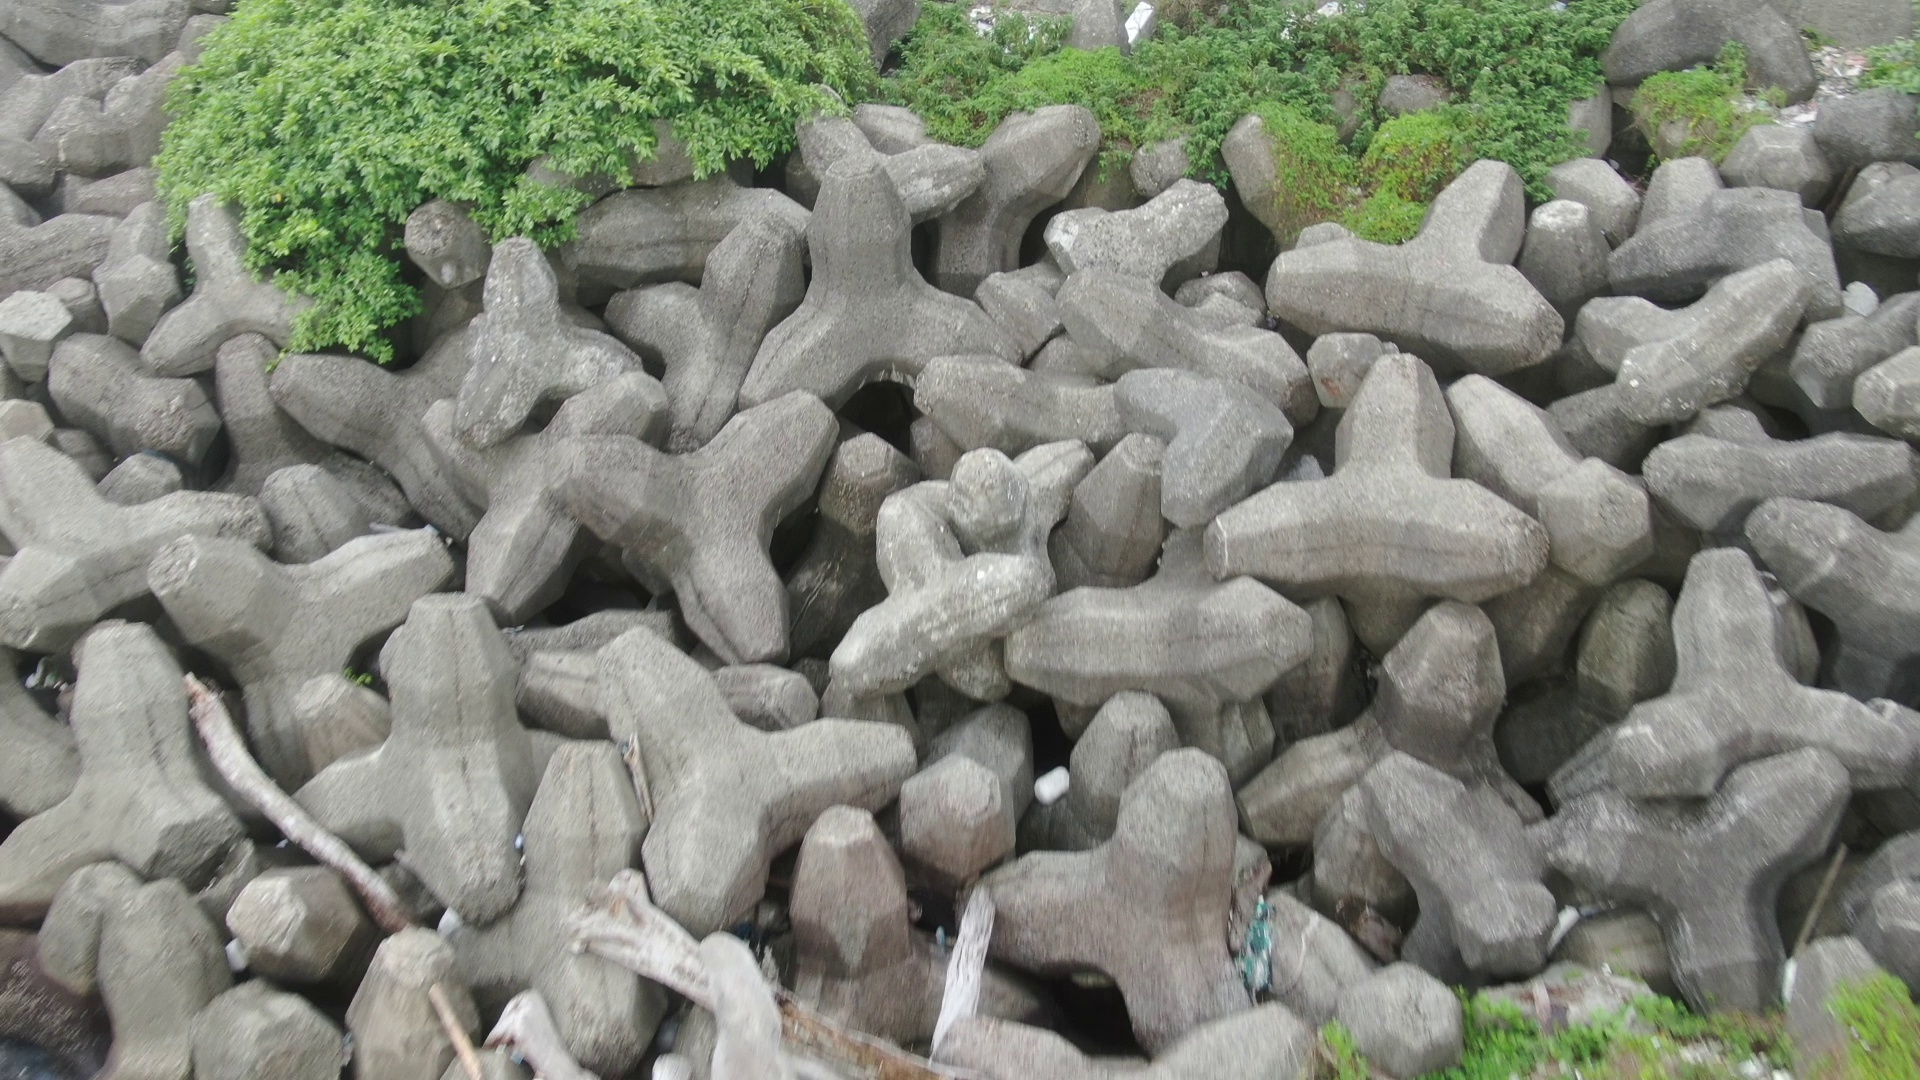garbage: (1023, 760, 1091, 804)
